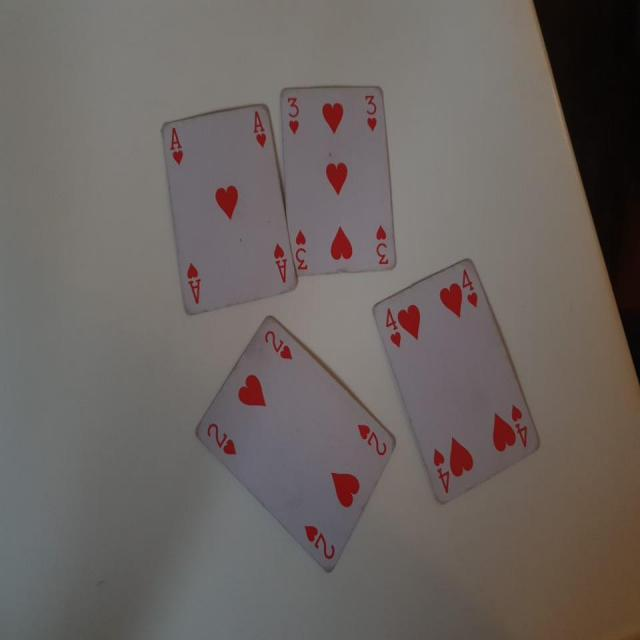2 Hearts: (185, 306, 405, 589)
3 Hearts: (275, 76, 402, 281)
4 Hearts: (360, 257, 543, 513)
A Hearts: (157, 97, 300, 312)
